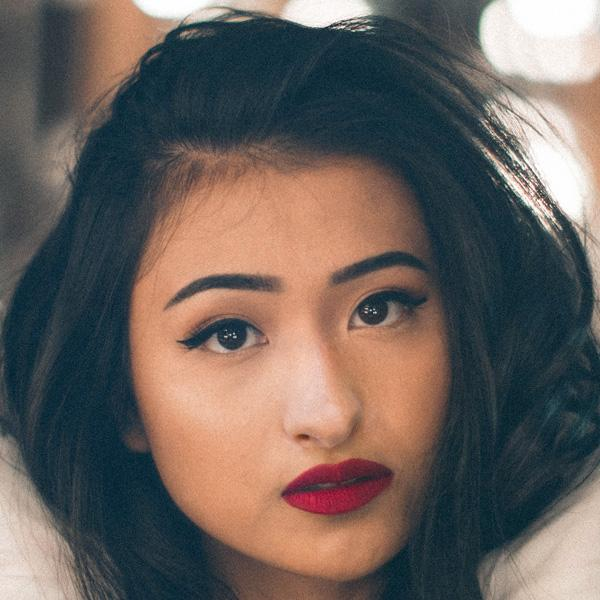Eyes: (174, 306, 274, 365), (335, 279, 425, 343)
